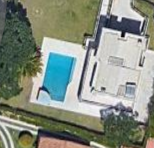pool: (49, 54, 67, 98)
